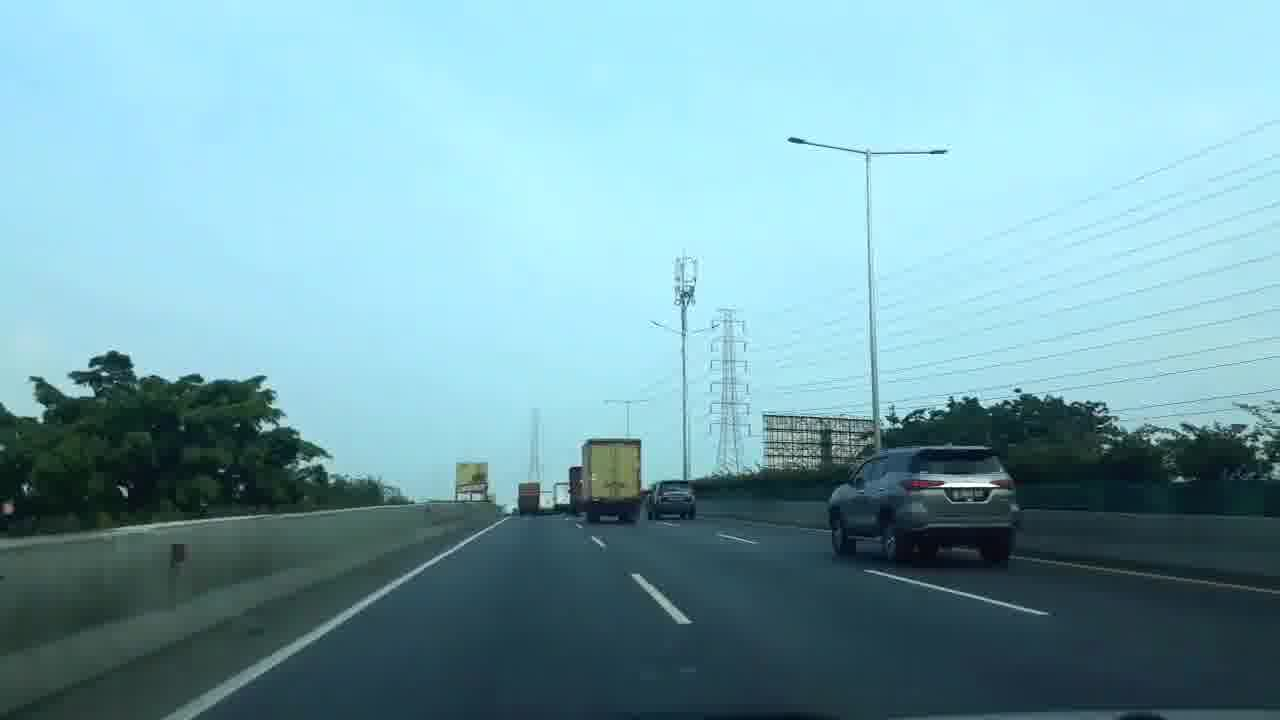plate_positive: (950, 488, 985, 501)
